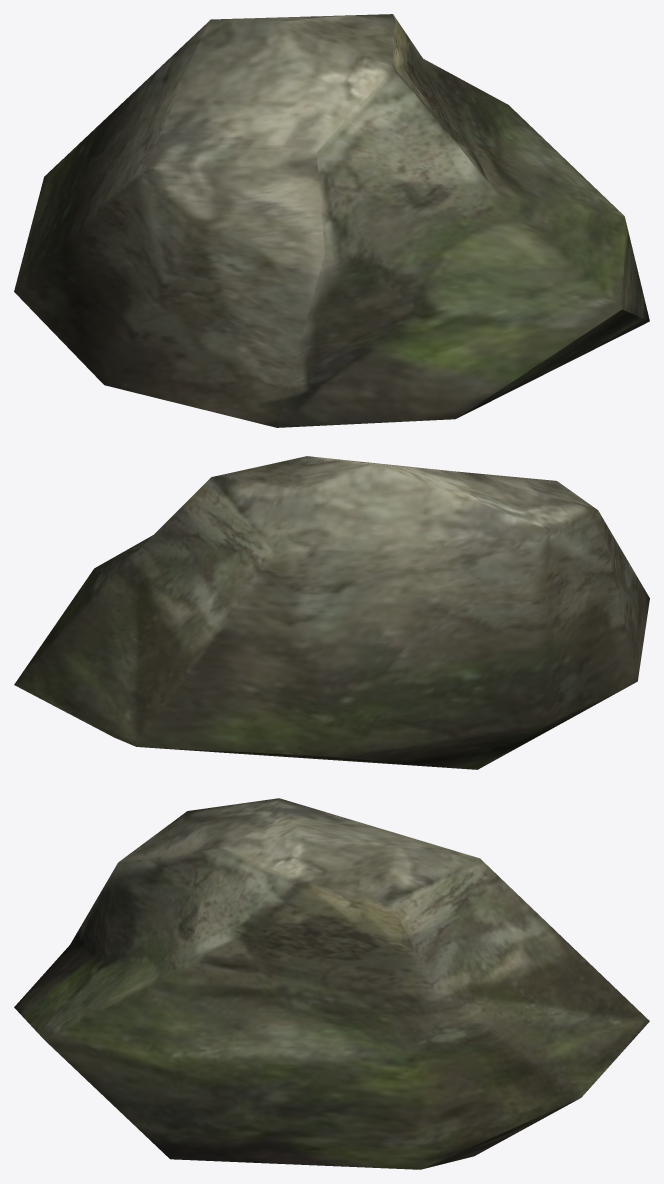
File: rock_3_floor.fbx
3 views of the same model, one above another, from view 1: azimuth 30°, elevation 25°; view 2: azimuth 150°, elevation 25°; view 3: azimuth 270°, elevation 25° (orthographic). The views are drawn at different scales.
Parts seen in each view (by area): view 1: rock_1; view 2: rock_1; view 3: rock_1.
Boxes of the visible parts, x1=… form: rock_1: x1=14, y1=14, x2=649, y2=427; rock_1: x1=14, y1=456, x2=649, y2=769; rock_1: x1=14, y1=798, x2=649, y2=1169.
Bounding box in the file's own units: 228 × 111 × 264.
1 material, 1 textured.
